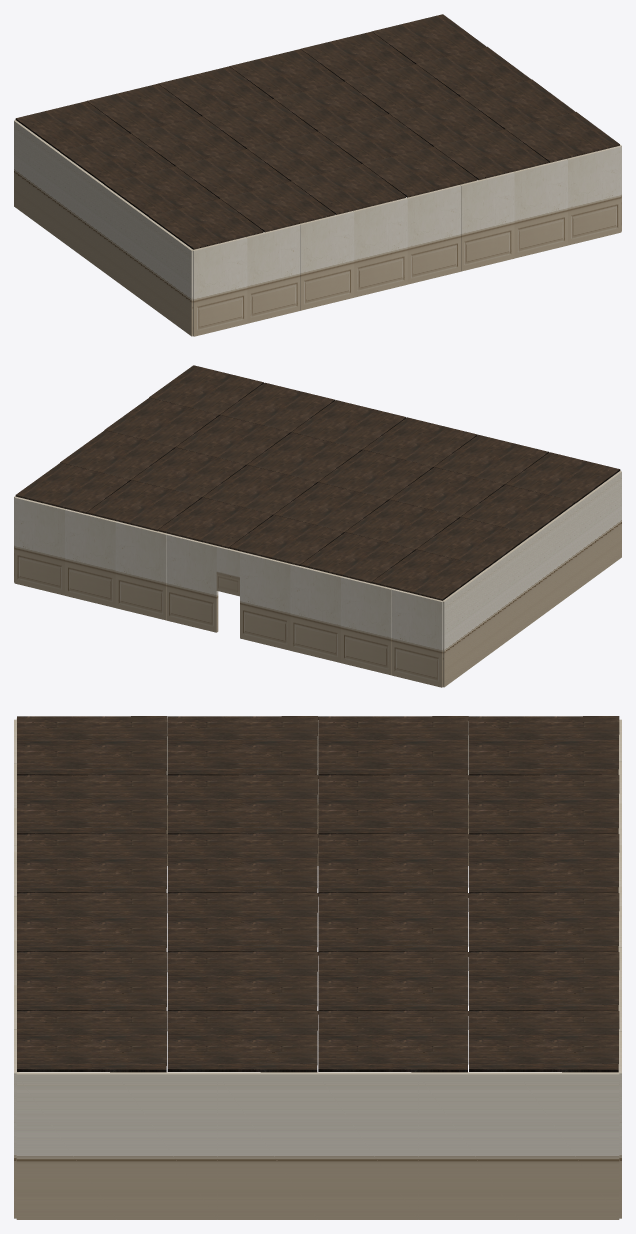
Rendered from int-shell-civic-a.glb.
3 views of the same model, one above another, from view 1: azimuth 30°, elevation 25°; view 2: azimuth 150°, elevation 25°; view 3: azimuth 270°, elevation 25° (orthographic). The views are drawn at different scales.
Visible parts, largest first — view 1: ceiling_backing_00_00; view 2: ceiling_backing_00_00; view 3: ceiling_backing_00_00.
Part boxes in pixels (<box>): ceiling_backing_00_00: <box>14,14,621,336</box>; ceiling_backing_00_00: <box>14,365,621,687</box>; ceiling_backing_00_00: <box>14,716,621,1219</box>.
Bounding box in the file's own units: 25.16 × 4.91 × 18.16.
2 materials, 2 textured.
